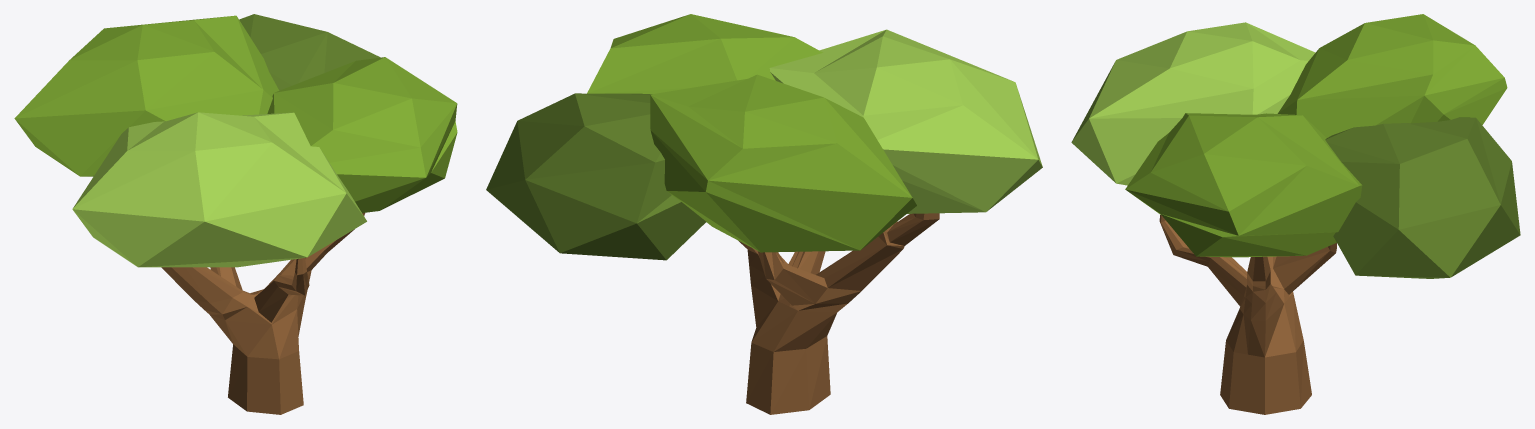
File: Strauch II.fbx
3 views of the same model, side by side, from view 1: azimuth 30°, elevation 25°; view 2: azimuth 150°, elevation 25°; view 3: azimuth 270°, elevation 25° (orthographic). The views are drawn at different scales.
Parts seen in each view (by area): view 1: Platonischer_Körper_4, Stamm; view 2: Platonischer_Körper_4, Stamm; view 3: Platonischer_Körper_4, Stamm.
Part boxes in pixels (left/top/right/bottom): Platonischer_Körper_4: left=14, top=14, right=457, bottom=267; Stamm: left=161, top=213, right=365, bottom=414; Platonischer_Körper_4: left=486, top=14, right=1042, bottom=260; Stamm: left=739, top=213, right=939, bottom=414; Platonischer_Körper_4: left=1071, top=14, right=1520, bottom=278; Stamm: left=1159, top=215, right=1336, bottom=414.
Size of the model in its own units: 931 by 736 by 890.
